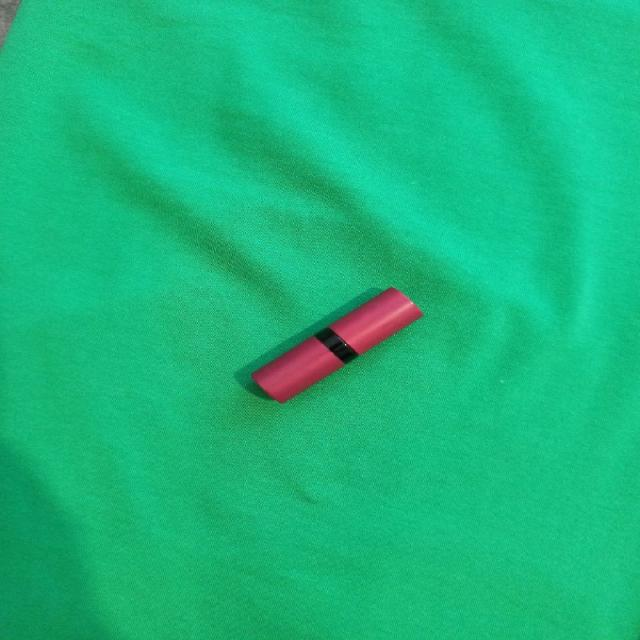lipstick: (249, 286, 423, 403)
